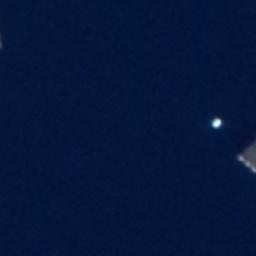square_cover: (232, 136, 256, 175)
